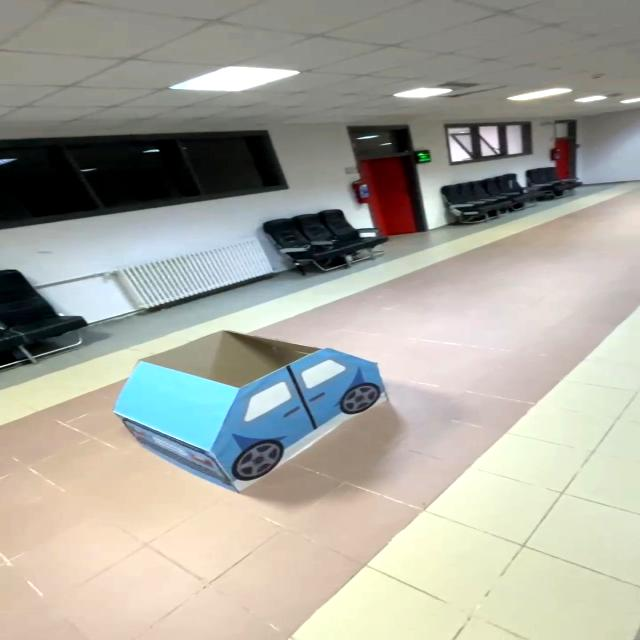blue_car: (93, 320, 406, 500)
